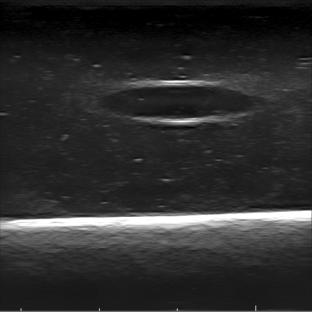vessel: (98, 77, 256, 126)
